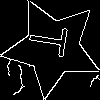T: (27, 22, 77, 60)
